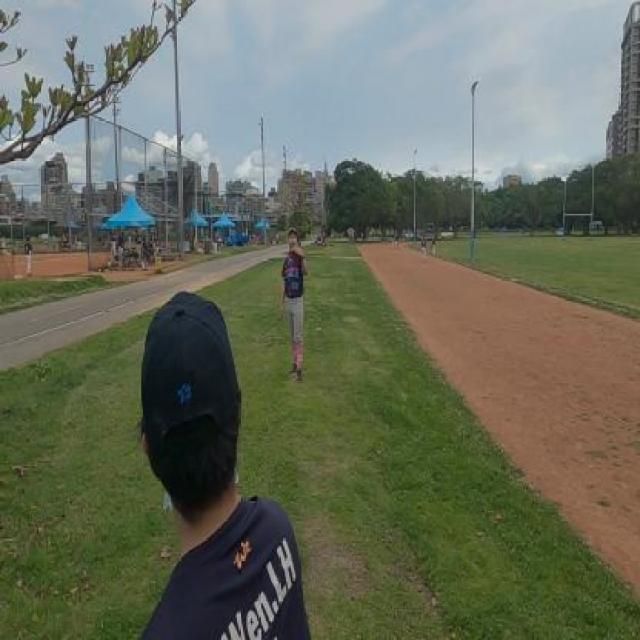baseball: (329, 178, 336, 190)
